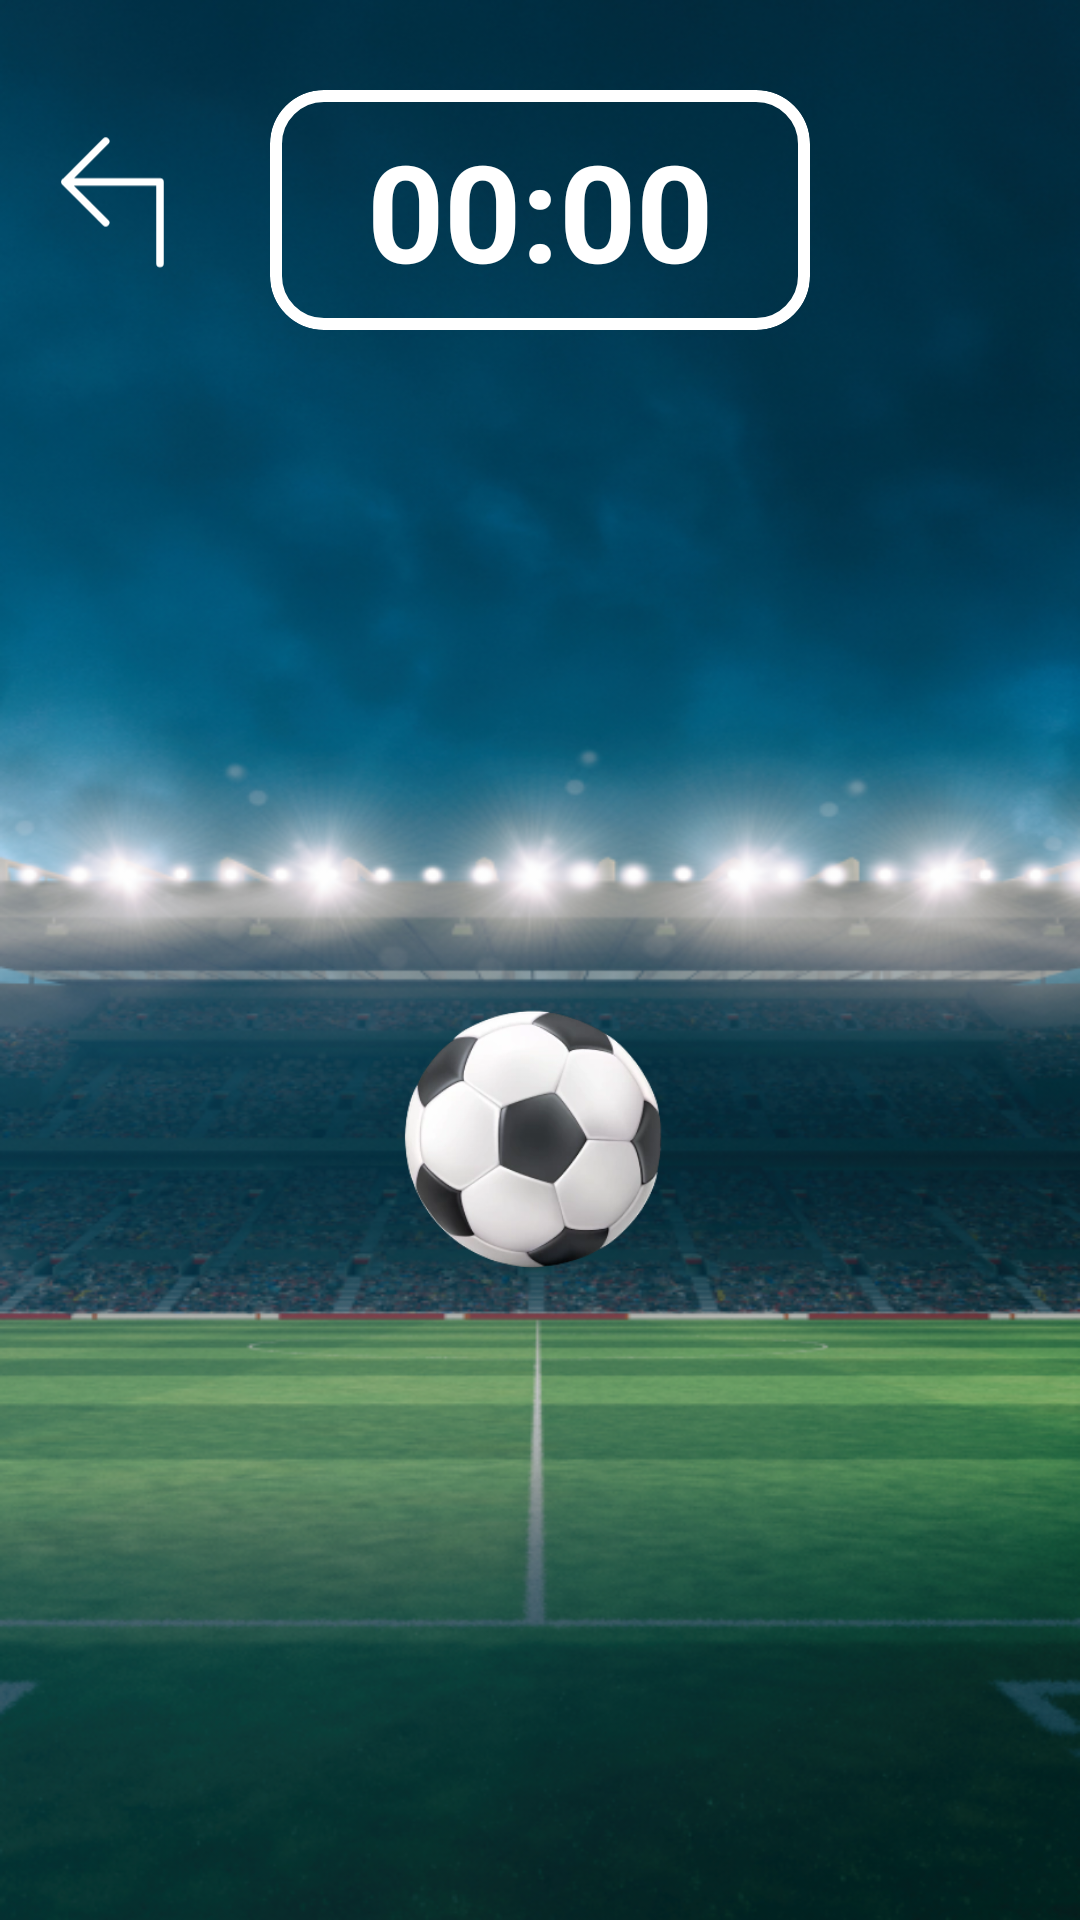

Point at icon controls on the screen. Image size 1080px×1920px, points as point (x, y).
back arrow game: point (112, 203)
ball: point (540, 1140)
